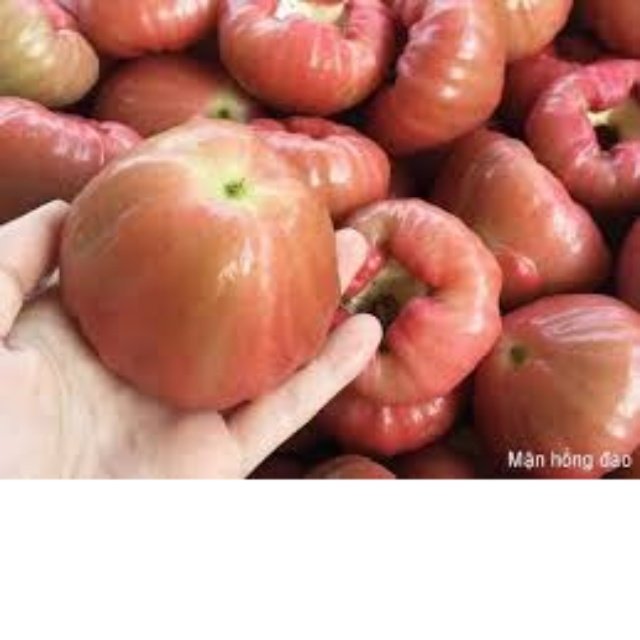xoai: (60, 130, 346, 403), (484, 283, 640, 469)
